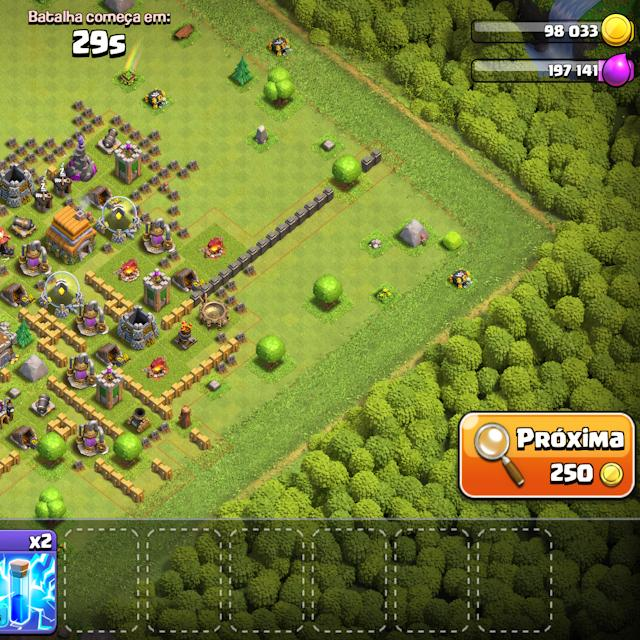Arqueira: (143, 270, 173, 312), (97, 368, 123, 408), (116, 143, 142, 183)
Canhao: (10, 214, 38, 238), (30, 393, 55, 419), (98, 127, 120, 154)
Next: (457, 409, 636, 505)
